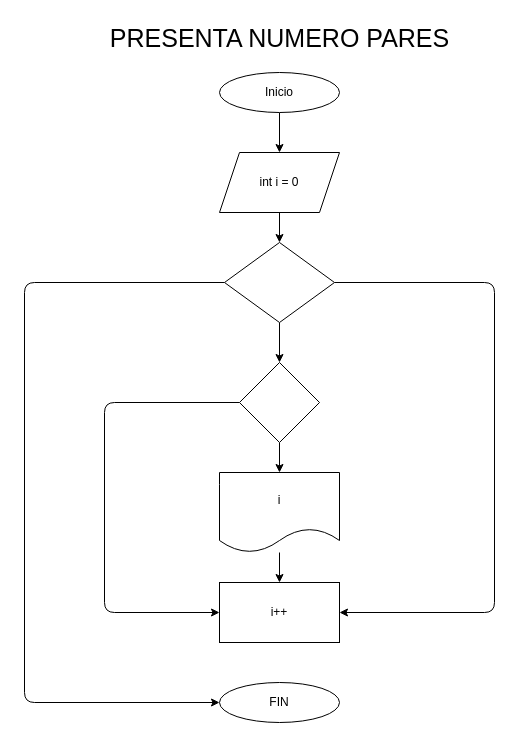
The diagram is 520 pixels wide and 740 high, and some of its shapes have lost their labels. The centre of each missing label's shape, as x and y in pixels:
"i % 2 == 0" goes at point 279,402.
"i < nroPares * 2" goes at point 279,282.
